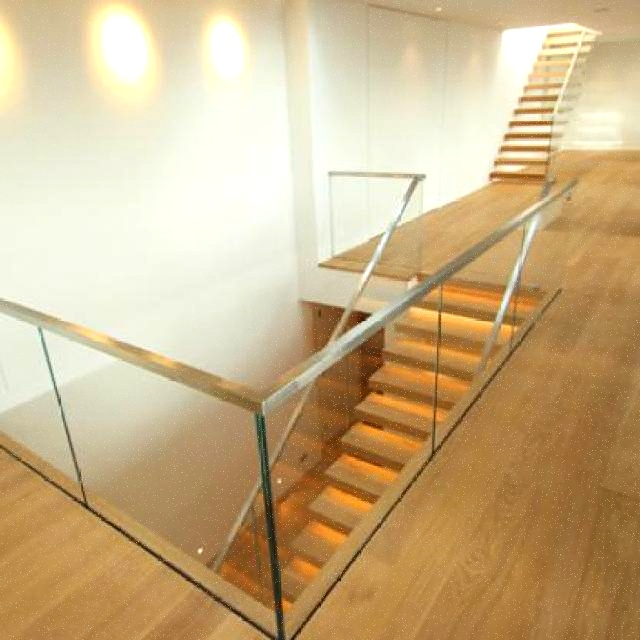stair: (171, 262, 566, 623), (460, 24, 620, 175)
